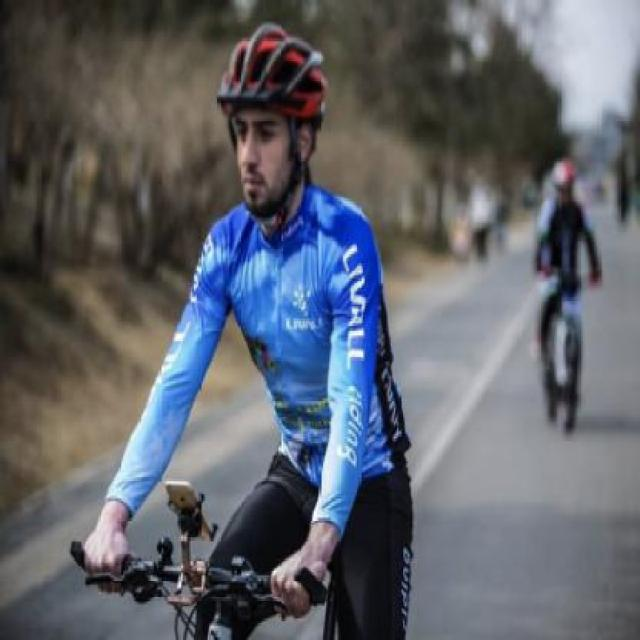with_helmet: (219, 20, 330, 214)
